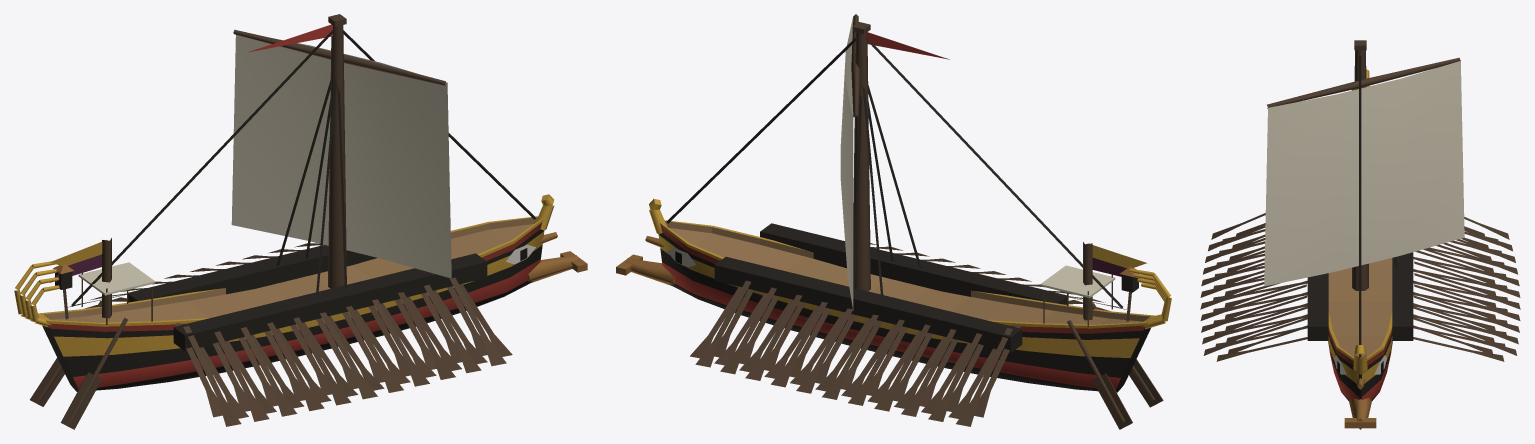
The model's file is hull_gold_trireme_large.glb.
3 renders of one model, left to right at view 1: azimuth 30°, elevation 25°; view 2: azimuth 150°, elevation 25°; view 3: azimuth 270°, elevation 25°, orthographic. The views are drawn at different scales.
Visible parts, largest first — view 1: hull, sail_main, oars, mast, rigging, deck, flag, yards; view 2: hull, oars, rigging, mast, deck, sail_main, flag, yards; view 3: sail_main, oars, hull, yards, rigging, mast.
Boxes of the visible parts, x1,y1,x2,y2 form: hull: [14, 194, 587, 391]; sail_main: [231, 35, 451, 278]; oars: [68, 243, 512, 426]; mast: [102, 14, 346, 318]; rigging: [71, 30, 535, 306]; deck: [30, 262, 155, 429]; flag: [50, 24, 332, 282]; yards: [233, 29, 445, 85]; hull: [616, 199, 1171, 392]; oars: [690, 243, 1126, 426]; rigging: [666, 37, 1122, 308]; mast: [852, 22, 1092, 320]; deck: [1040, 265, 1163, 429]; sail_main: [840, 16, 853, 310]; flag: [866, 32, 1146, 279]; yards: [851, 14, 860, 117]; sail_main: [1264, 61, 1464, 286]; oars: [1200, 213, 1520, 361]; hull: [1307, 69, 1413, 429]; yards: [1267, 57, 1460, 108]; rigging: [1359, 56, 1397, 357]; mast: [1352, 40, 1368, 290].
Size of the model in its own units: 20.06 by 11.35 by 10.88.
